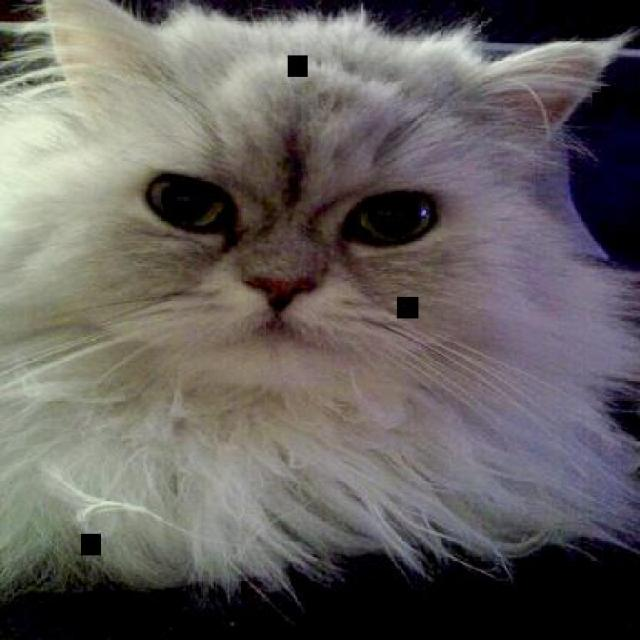cat: (0, 0, 629, 605)
